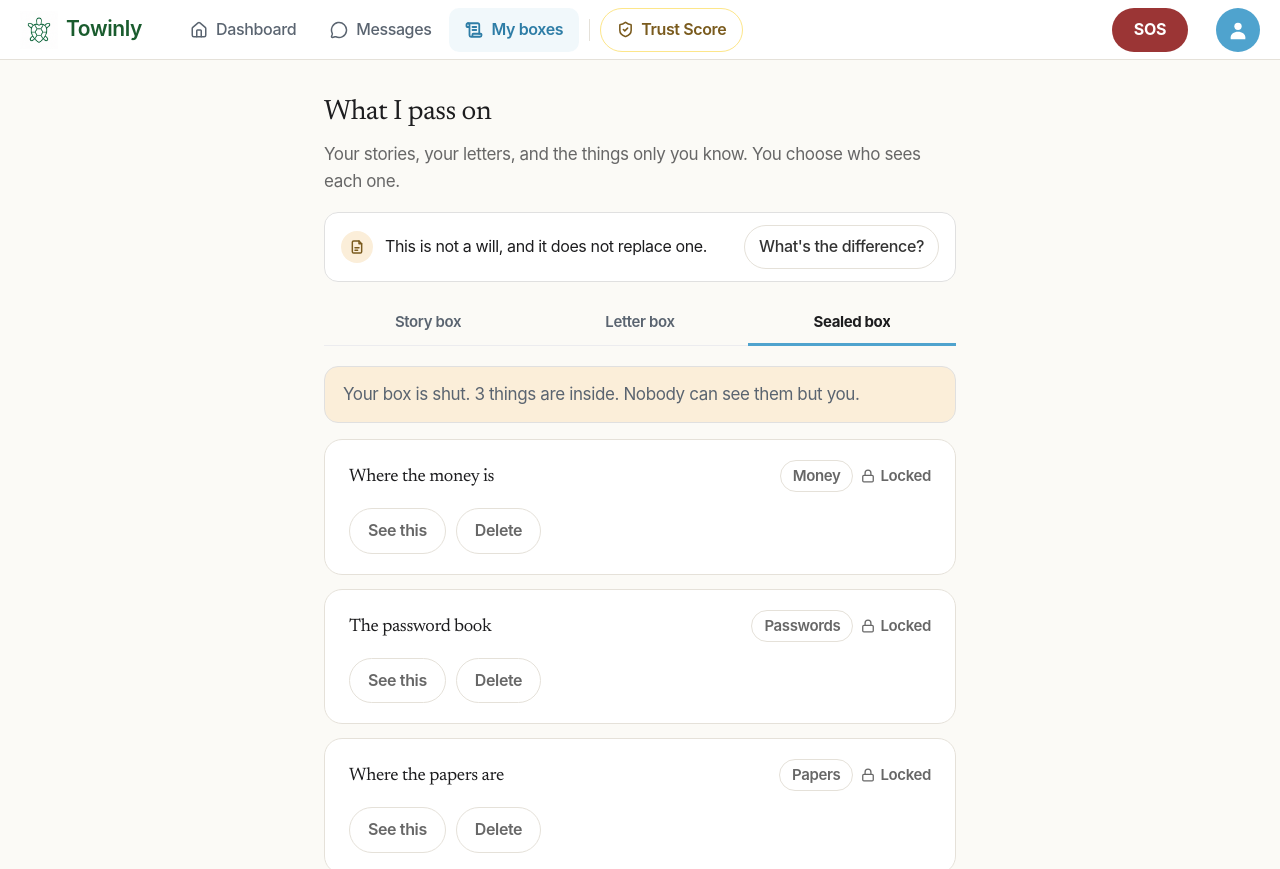
Test: opening one thing › asks for her password before it opens anything
Step 1. Click the button "See this" below "Where the money is" → (397, 531), box 349,508 -> 446,554
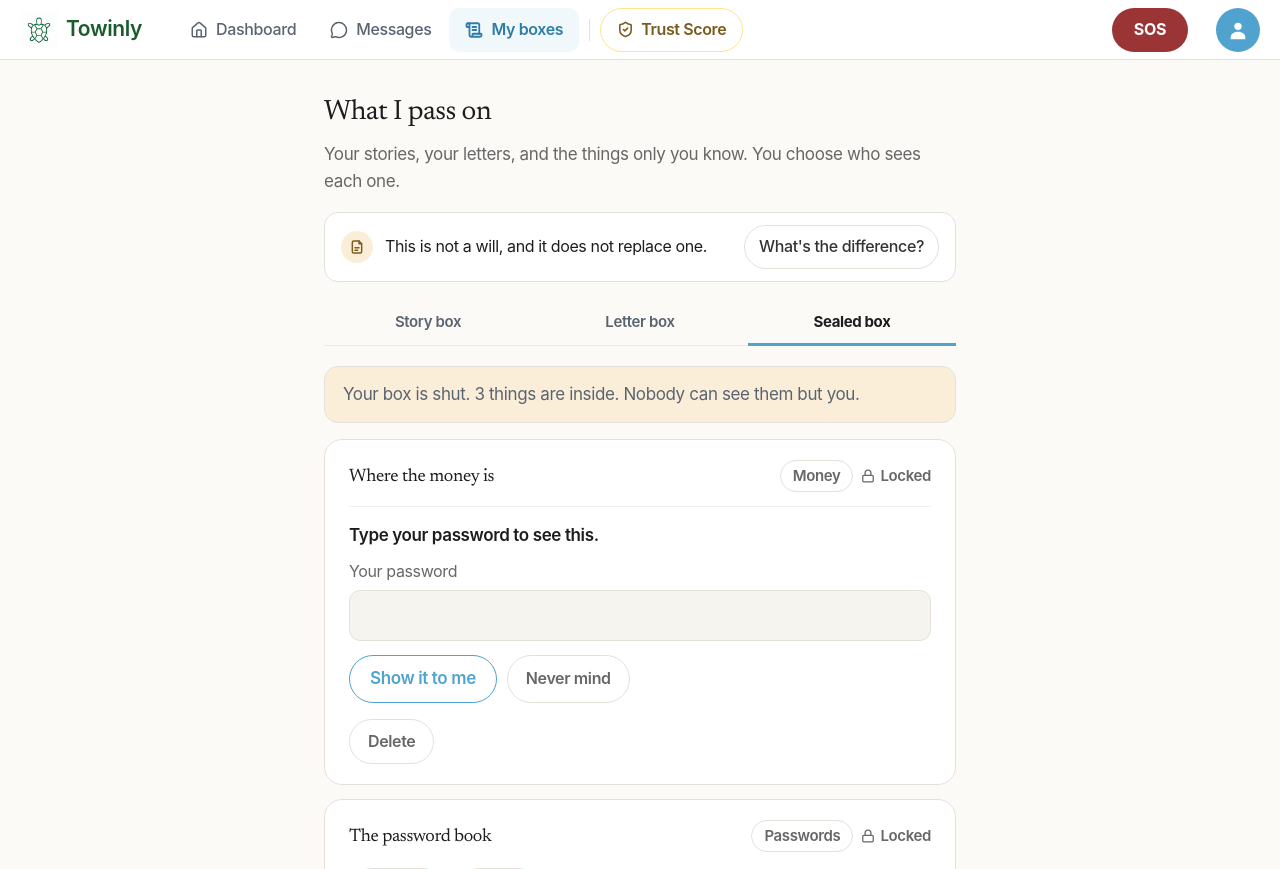
expect the text "Type your password to see this." is shown: met, box 349,525 -> 599,545
